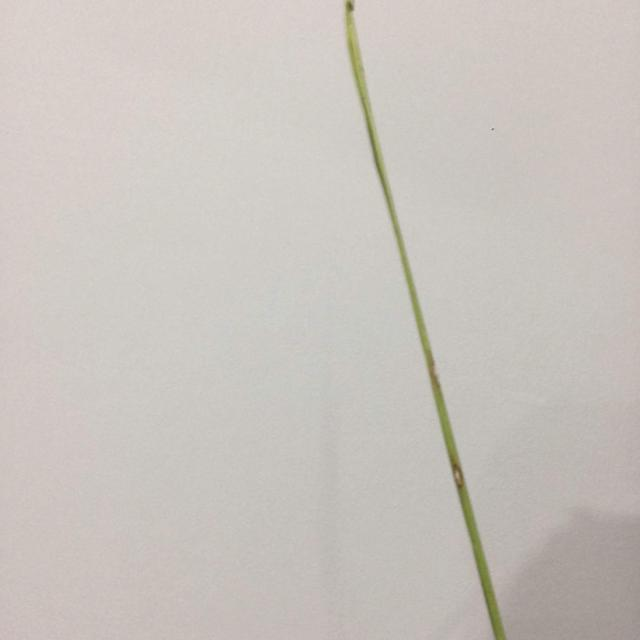Blast: (455, 467, 466, 495), (429, 366, 441, 383)
